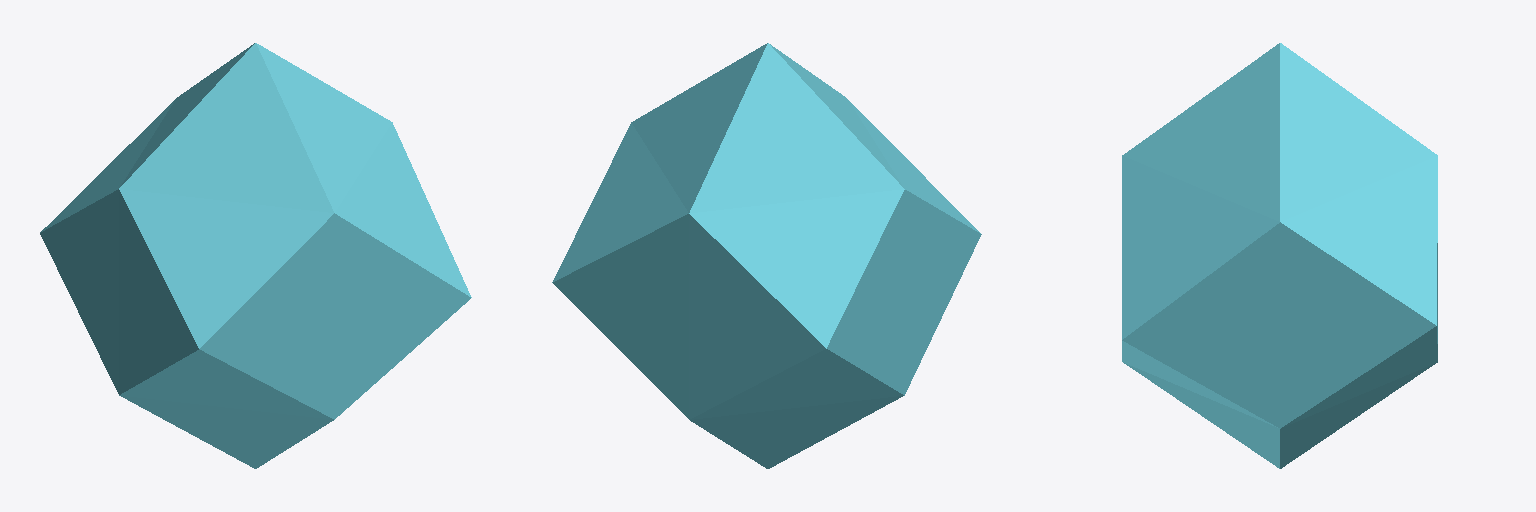
3 renders of one model, left to right at view 1: azimuth 30°, elevation 25°; view 2: azimuth 150°, elevation 25°; view 3: azimuth 270°, elevation 25°, orthographic.
Visible parts, largest first — view 1: 立方体; view 2: 立方体; view 3: 立方体.
Boxes of the visible parts, x1=… form: 立方体: x1=40, y1=43, x2=471, y2=468; 立方体: x1=552, y1=43, x2=981, y2=468; 立方体: x1=1122, y1=43, x2=1437, y2=468.
Bounding box in the file's own units: 2.01 × 2.98 × 2.
1 materials, 1 textured.